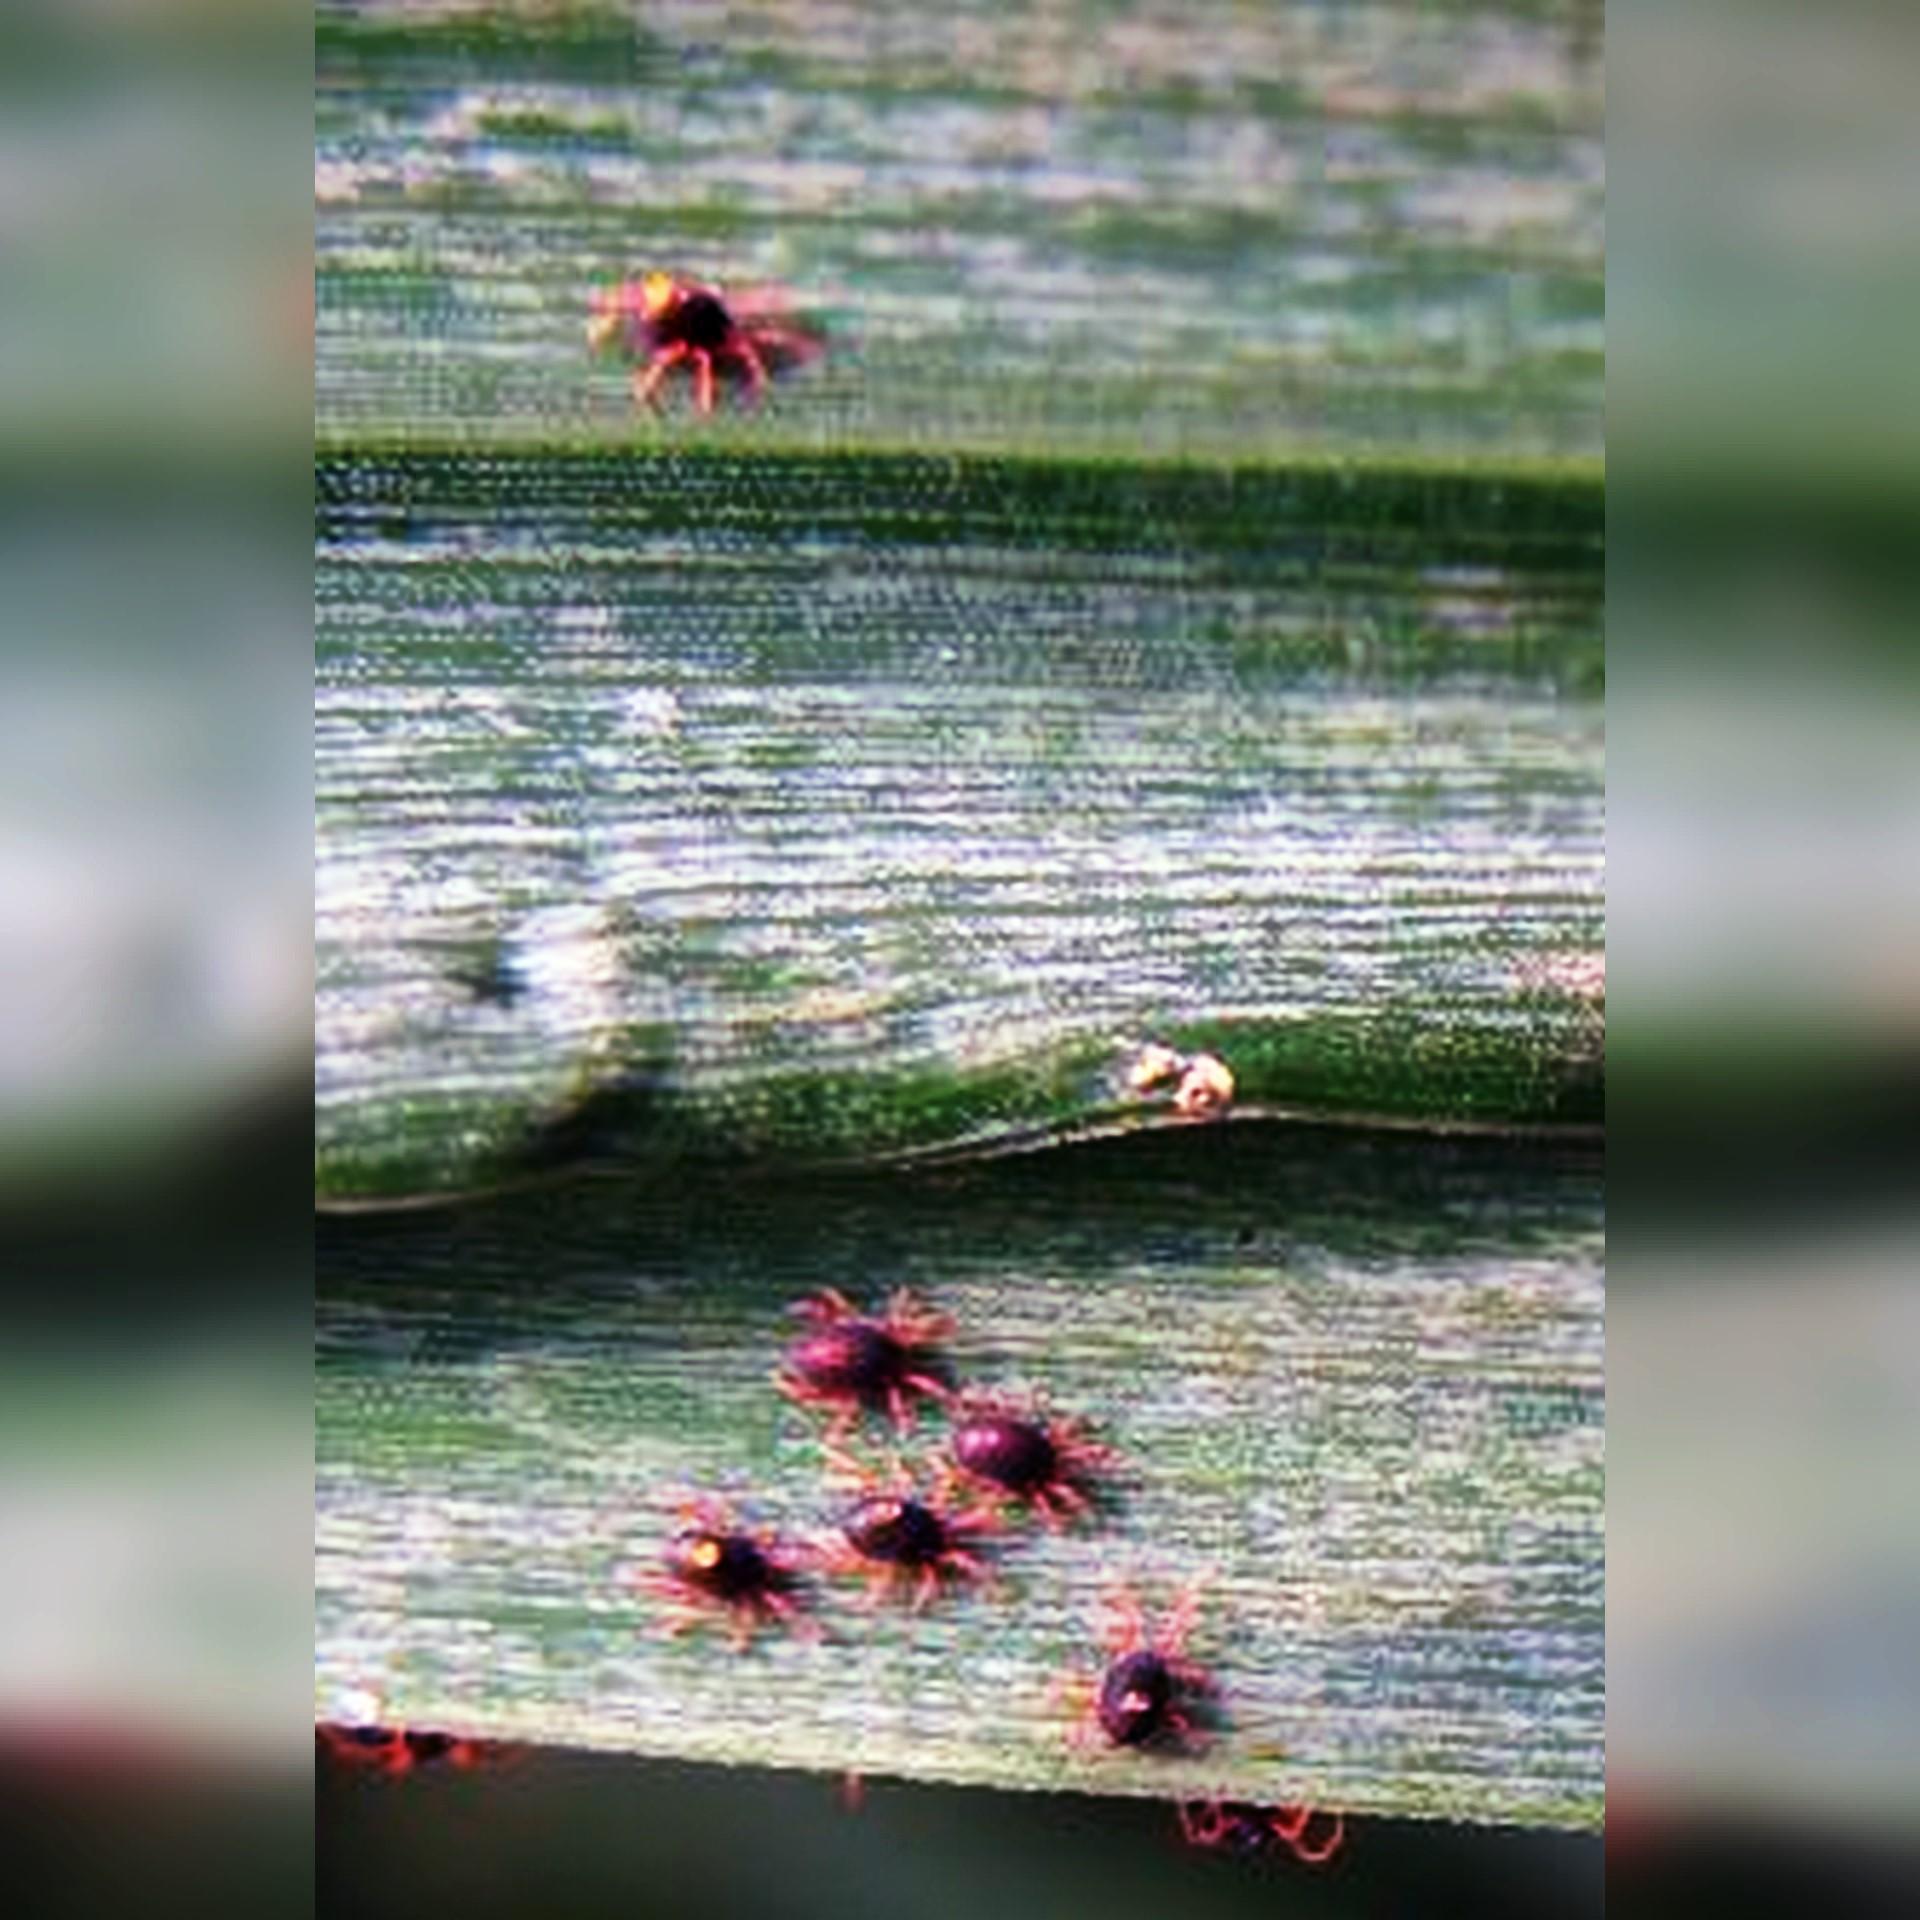Wheat Red Spider: (542, 1257, 1264, 1772)
